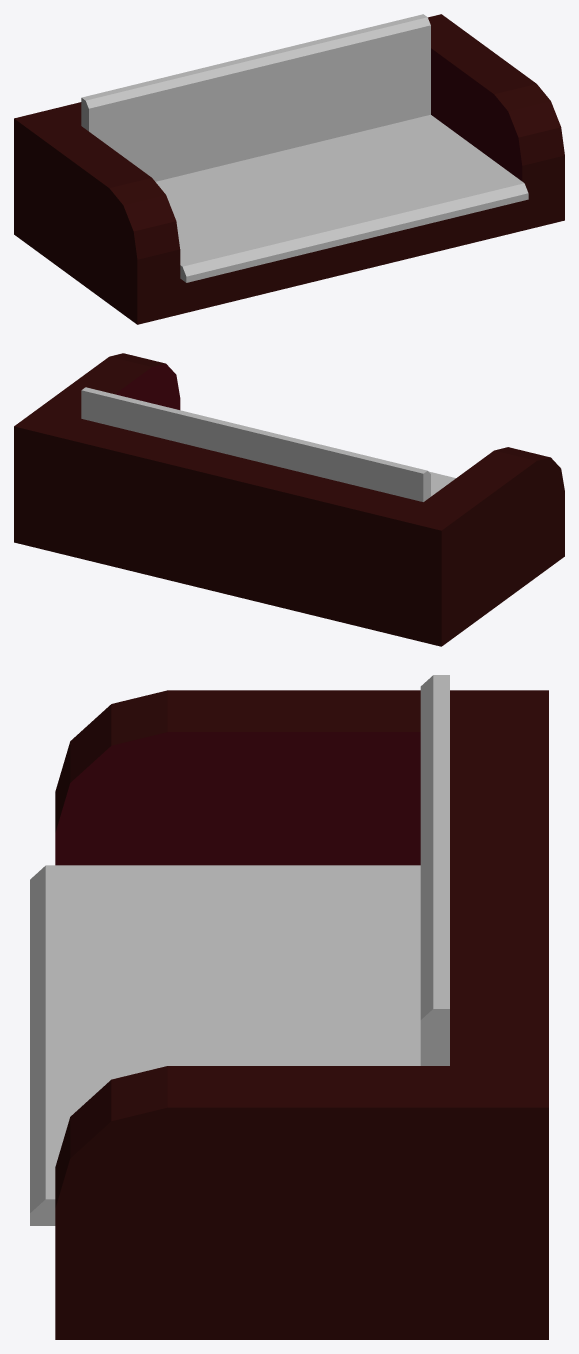
Rendered from Sofa.fbx.
3 renders of one model, top to bottom at view 1: azimuth 30°, elevation 25°; view 2: azimuth 150°, elevation 25°; view 3: azimuth 270°, elevation 25°, orthographic. The views are drawn at different scales.
Parts seen in each view (by area): view 1: SofaMattress, Sofa; view 2: Sofa, SofaMattress; view 3: Sofa, SofaMattress.
Boxes of the visible parts, box(x1,y1,x2,y2) form: SofaMattress: box(81, 14, 528, 282); Sofa: box(14, 14, 564, 324); Sofa: box(14, 353, 564, 646); SofaMattress: box(81, 387, 455, 501); Sofa: box(55, 690, 548, 1339); SofaMattress: box(30, 675, 449, 1225).
Size of the model in its own units: 1000 by 323 by 525.
